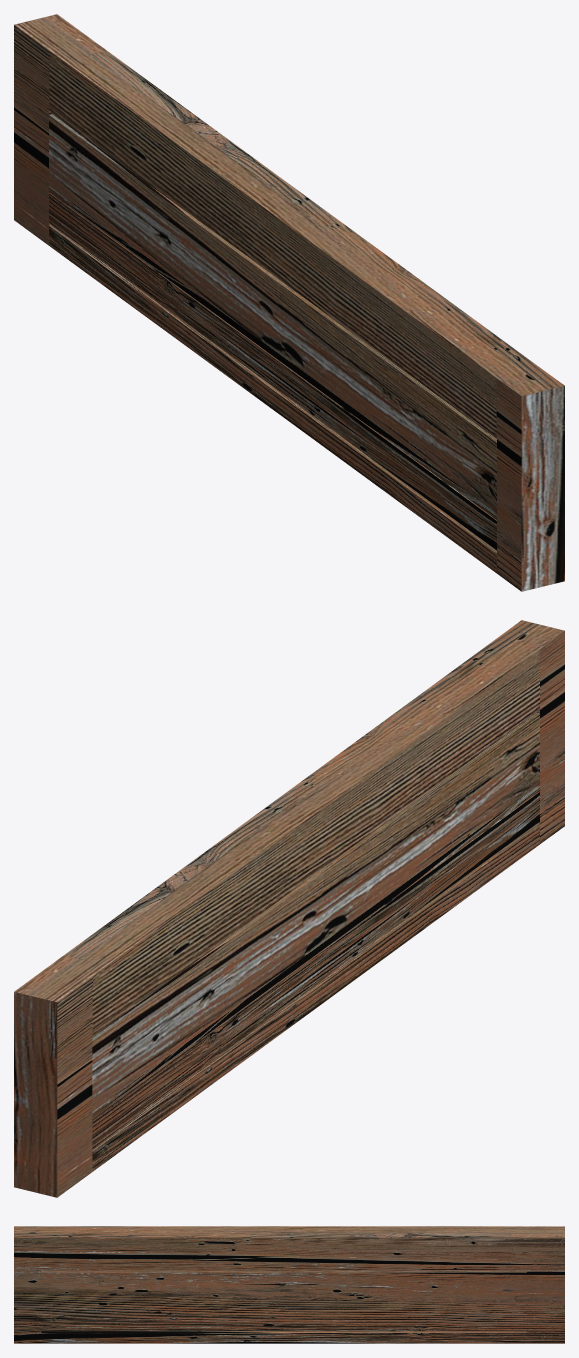
File: holzwand2.fbx
3 renders of one model, top to bottom at view 1: azimuth 30°, elevation 25°; view 2: azimuth 150°, elevation 25°; view 3: azimuth 270°, elevation 25°, orthographic. The views are drawn at different scales.
Visible parts, largest first — view 1: HolzWandHinderniss; view 2: HolzWandHinderniss; view 3: HolzWandHinderniss.
Boxes of the visible parts, left/top/right/bottom form: HolzWandHinderniss: left=14, top=14, right=564, bottom=591; HolzWandHinderniss: left=14, top=620, right=564, bottom=1197; HolzWandHinderniss: left=14, top=1226, right=564, bottom=1343.
Size of the model in its own units: 39.37 by 170 by 801.
Materials: 1 (1 with a texture image).
